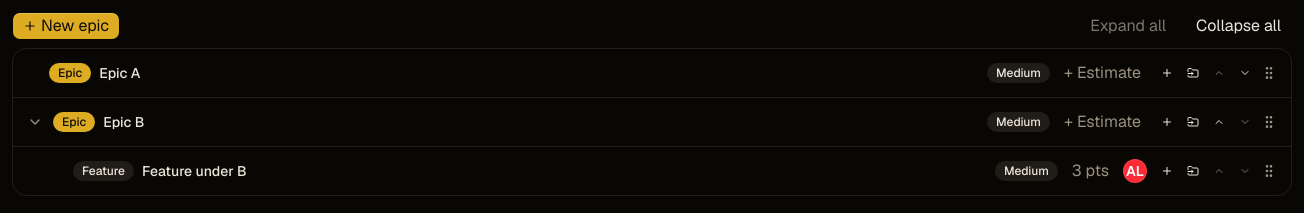
Test: BacklogTree › cancels an inline estimate edit without saving
Click the button "3 pts": [1090, 171] box [1066,157,1115,185]
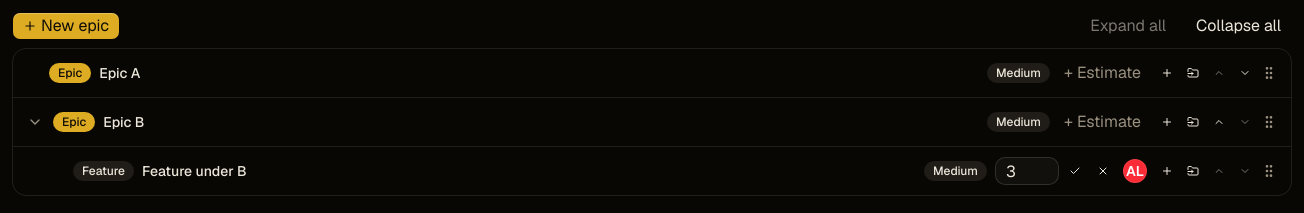
Replace the text in the number field named "Story points" with "8": [1027, 171] box [995,157,1059,185]
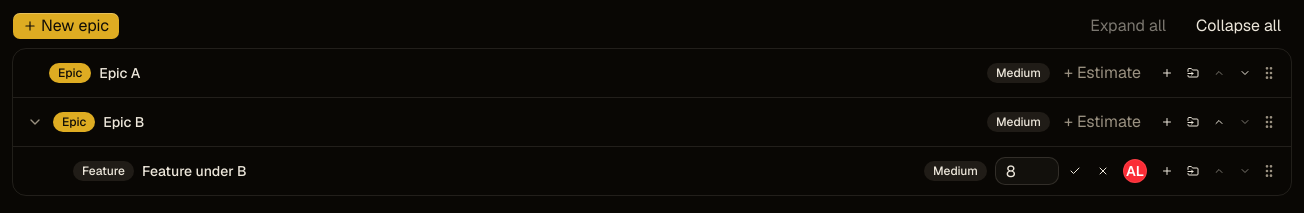
Click the button named "Cancel": [1103, 171] box [1091,159,1115,183]
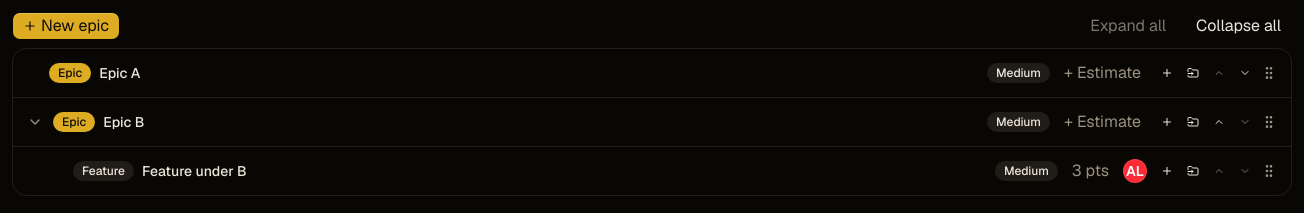
Expected: the button "3 pts" is shown, [1066,157,1115,185]
